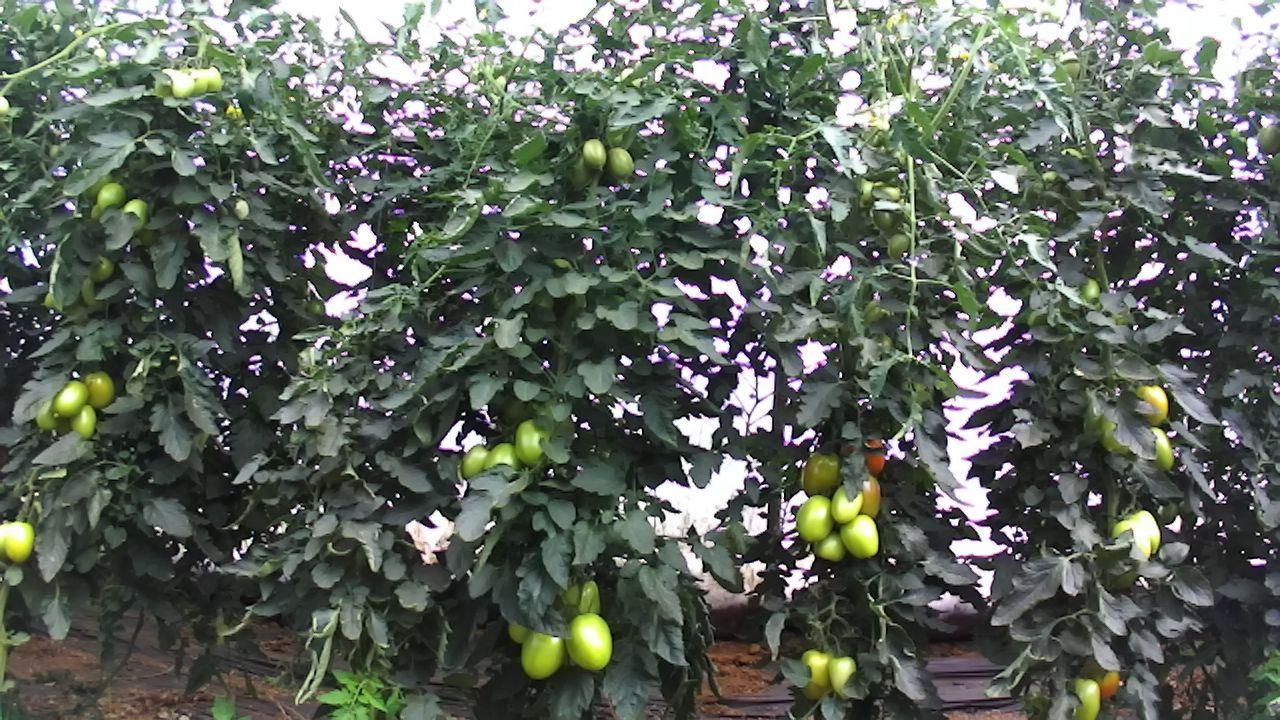tomato: (560, 609, 614, 672), (517, 628, 565, 681), (793, 490, 837, 545), (835, 510, 880, 562), (511, 415, 553, 467), (801, 448, 844, 497), (796, 649, 833, 705), (1132, 379, 1171, 431), (48, 376, 90, 419), (808, 525, 850, 566), (1067, 675, 1105, 720), (853, 466, 884, 521), (479, 436, 525, 472), (825, 653, 859, 701), (829, 481, 865, 526), (1147, 423, 1178, 475), (2, 519, 35, 566), (458, 439, 494, 482), (82, 367, 117, 410), (68, 402, 100, 441), (31, 399, 64, 433), (95, 178, 127, 213), (604, 145, 636, 180), (581, 137, 607, 172), (169, 70, 197, 101), (1255, 120, 1280, 154), (885, 230, 911, 260), (872, 208, 897, 232)
